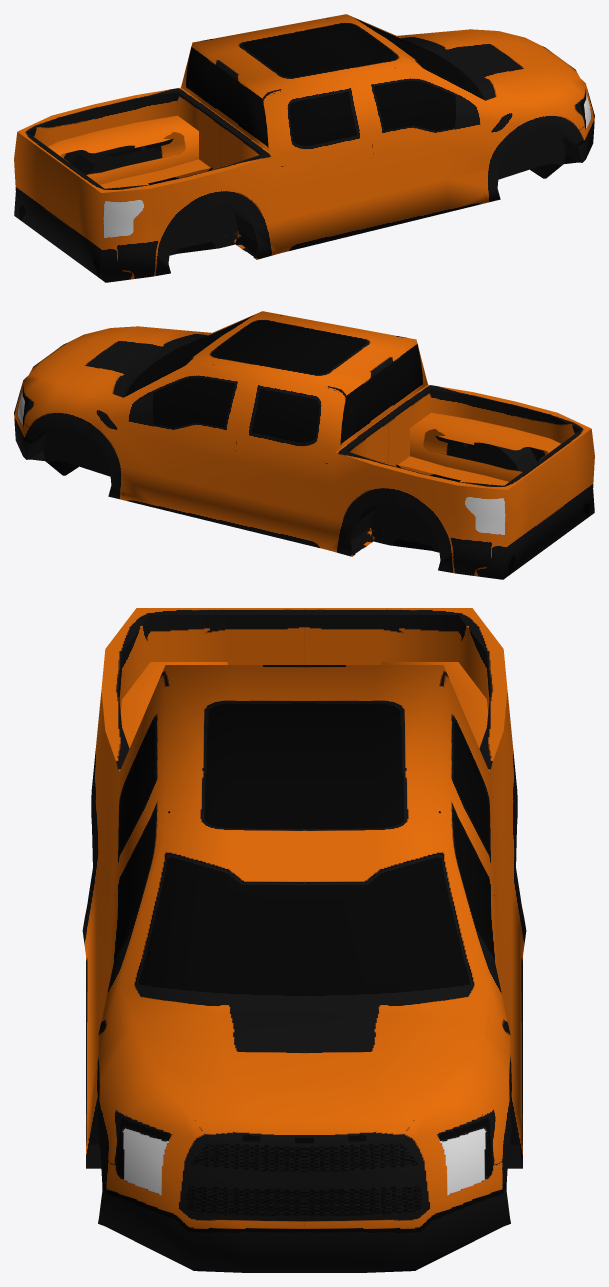
Rendered from Ford F-150 2017_Simple_Low.fbx.
3 renders of one model, top to bottom at view 1: azimuth 30°, elevation 25°; view 2: azimuth 150°, elevation 25°; view 3: azimuth 270°, elevation 25°, orthographic. The views are drawn at different scales.
Visible parts, largest first — view 1: LowP; view 2: LowP; view 3: LowP.
Boxes of the visible parts, <box> form: LowP: <box>14,14,594,282</box>; LowP: <box>14,311,594,579</box>; LowP: <box>82,608,526,1272</box>.
Bounding box in the file's own units: 321 × 94.9 × 121.
